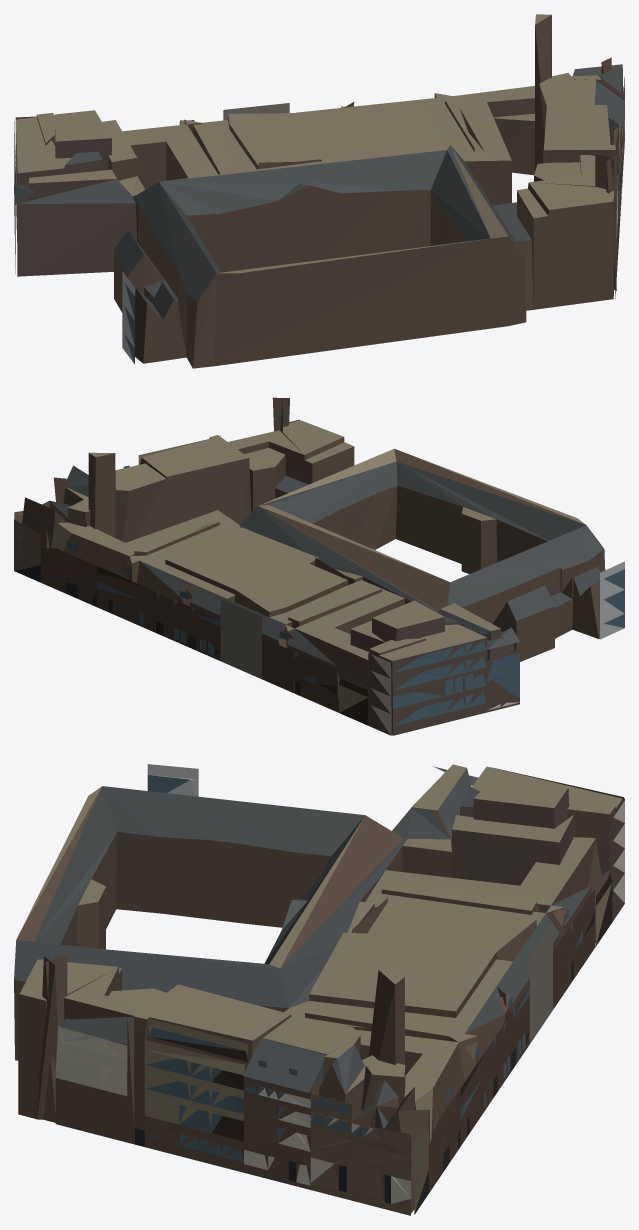
File: binnengasthuis-kloveniersburgwal.lod2.glb
3 views of the same model, one above another, from view 1: azimuth 30°, elevation 25°; view 2: azimuth 150°, elevation 25°; view 3: azimuth 270°, elevation 25° (orthographic). The views are drawn at different scales.
Visible parts, largest first — view 1: lod2; view 2: lod2; view 3: lod2.
Boxes of the visible parts, x1,y1,x2,y2 form: lod2: [14, 14, 624, 368]; lod2: [14, 397, 624, 735]; lod2: [14, 764, 624, 1215].
Bounding box in the file's own units: 113 × 27.09 × 81.34.
